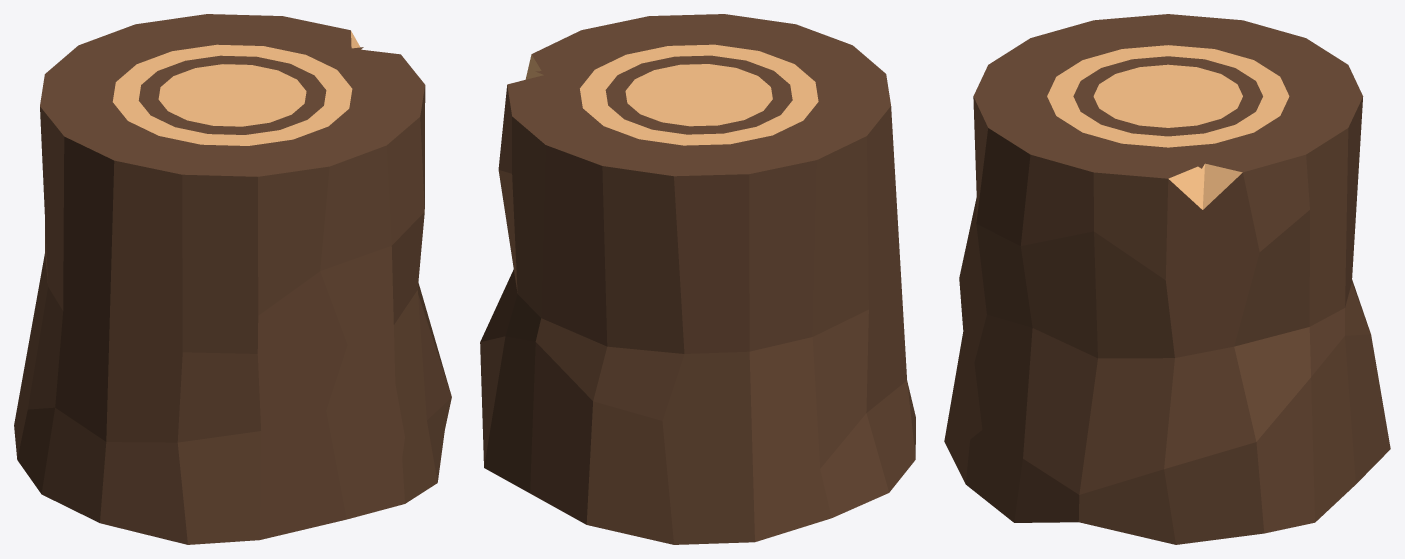
Rendered from cc_tree_stump1.fbx.
3 renders of one model, left to right at view 1: azimuth 30°, elevation 25°; view 2: azimuth 150°, elevation 25°; view 3: azimuth 270°, elevation 25°, orthographic.
Visible parts, largest first — view 1: Cylinder; view 2: Cylinder; view 3: Cylinder.
Boxes of the visible parts, bbox=[...] form: Cylinder: bbox=[14, 14, 451, 544]; Cylinder: bbox=[480, 14, 915, 544]; Cylinder: bbox=[944, 14, 1390, 544].
Bounding box in the file's own units: 262 × 243 × 270.
